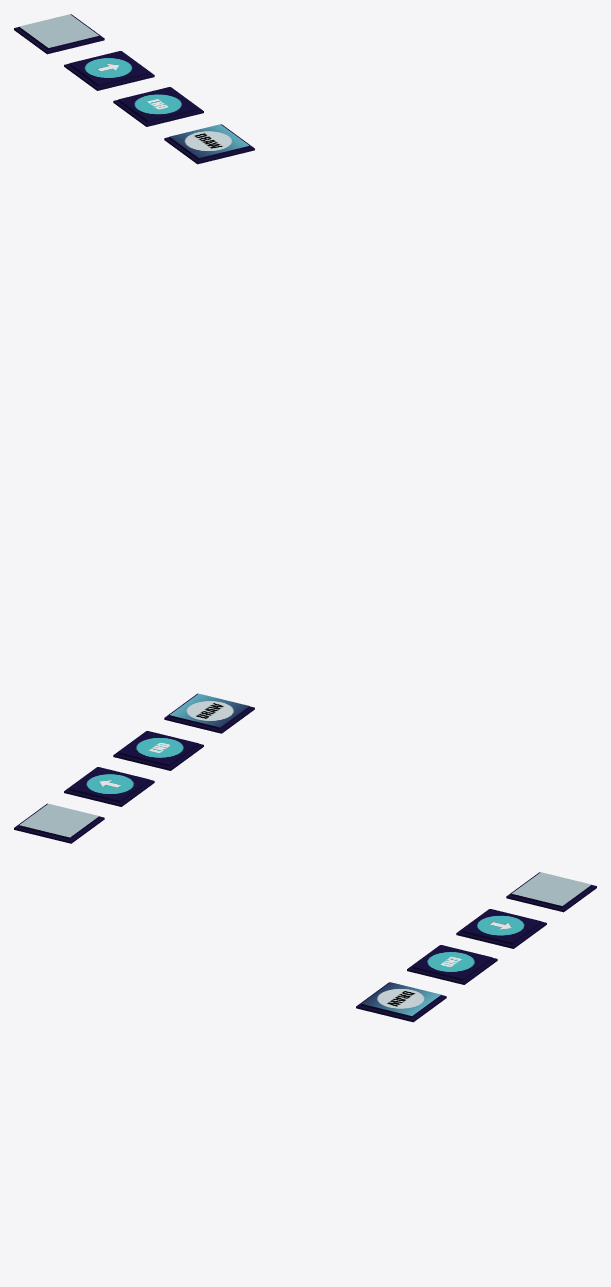
File: Tiles.fbx
The picture shows the model from 3 angles, top to bottom: view 1: azimuth 30°, elevation 25°; view 2: azimuth 150°, elevation 25°; view 3: azimuth 330°, elevation 25°; orthographic projection.
Parts seen in each view (by area): view 1: Draw, Default, Checkpoint, Teleport; view 2: Draw, Default, Teleport, Checkpoint; view 3: Draw, Default, Checkpoint, Teleport.
Boxes of the visible parts, box(x1,y1,x2,y2) form: Draw: box(164, 124, 254, 164); Default: box(14, 14, 104, 54); Checkpoint: box(64, 51, 154, 90); Teleport: box(113, 87, 203, 126); Draw: box(164, 693, 254, 733); Default: box(14, 803, 104, 843); Teleport: box(113, 731, 203, 770); Checkpoint: box(64, 767, 154, 806); Draw: box(356, 982, 446, 1022); Default: box(506, 872, 596, 912); Checkpoint: box(456, 909, 546, 948); Teleport: box(407, 945, 497, 984).
Size of the model in its own units: 2 by 0.1355 by 31.71.
